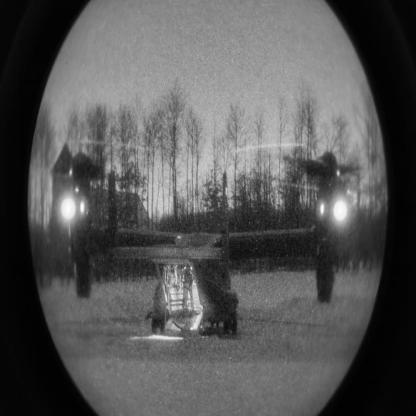V22: (30, 141, 388, 335)
